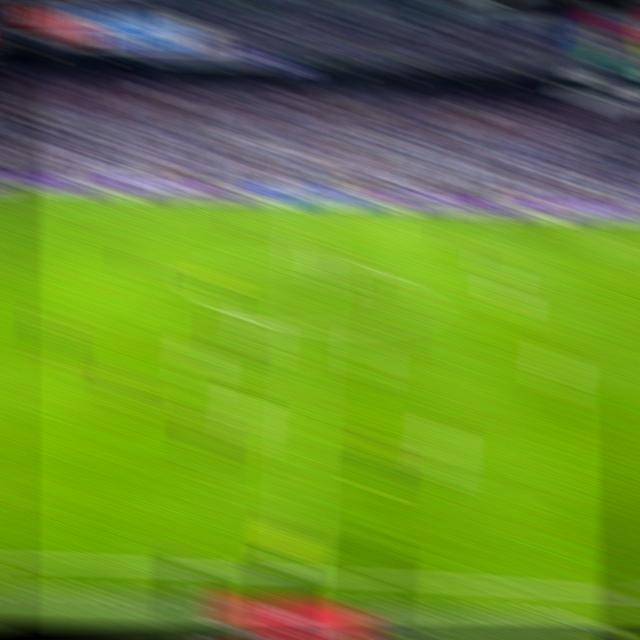halfcircle_bottom: (291, 312, 324, 341)
halfcircle_top: (294, 248, 326, 272)
midline_bottom_intersection: (280, 558, 313, 587)
midline_top_intersection: (299, 200, 326, 216)
